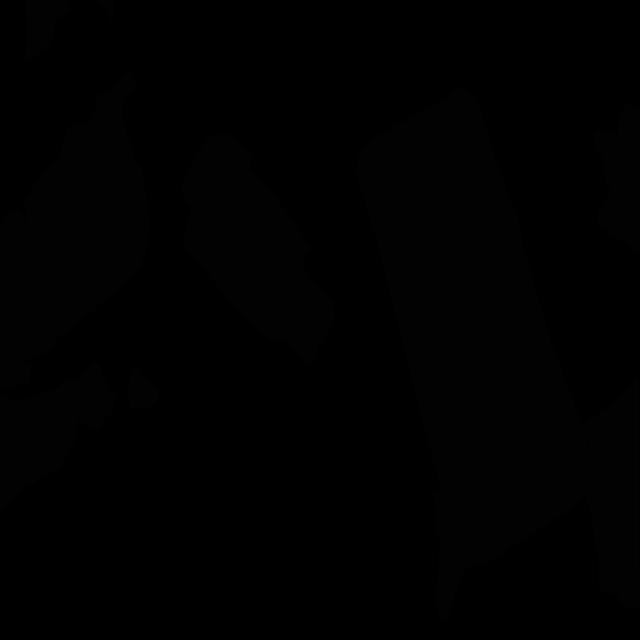cardboard: (356, 86, 594, 567), (13, 67, 150, 361), (180, 133, 336, 365), (0, 361, 116, 514), (584, 375, 640, 611), (0, 209, 41, 388), (594, 104, 640, 255), (433, 490, 472, 619), (25, 0, 72, 60), (127, 367, 160, 410), (98, 0, 115, 23)
